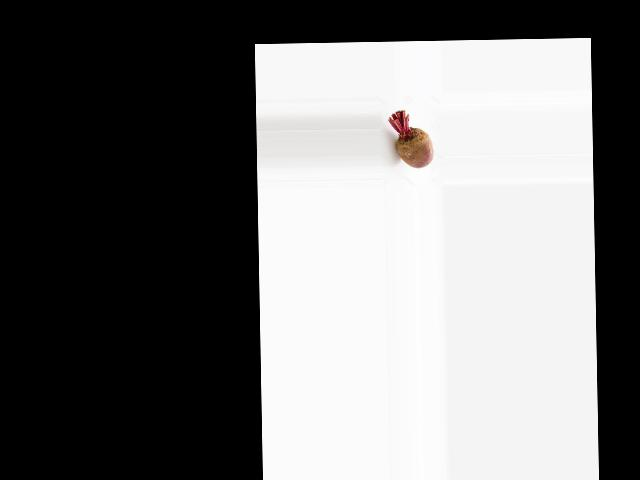beet: (387, 109, 433, 169)
